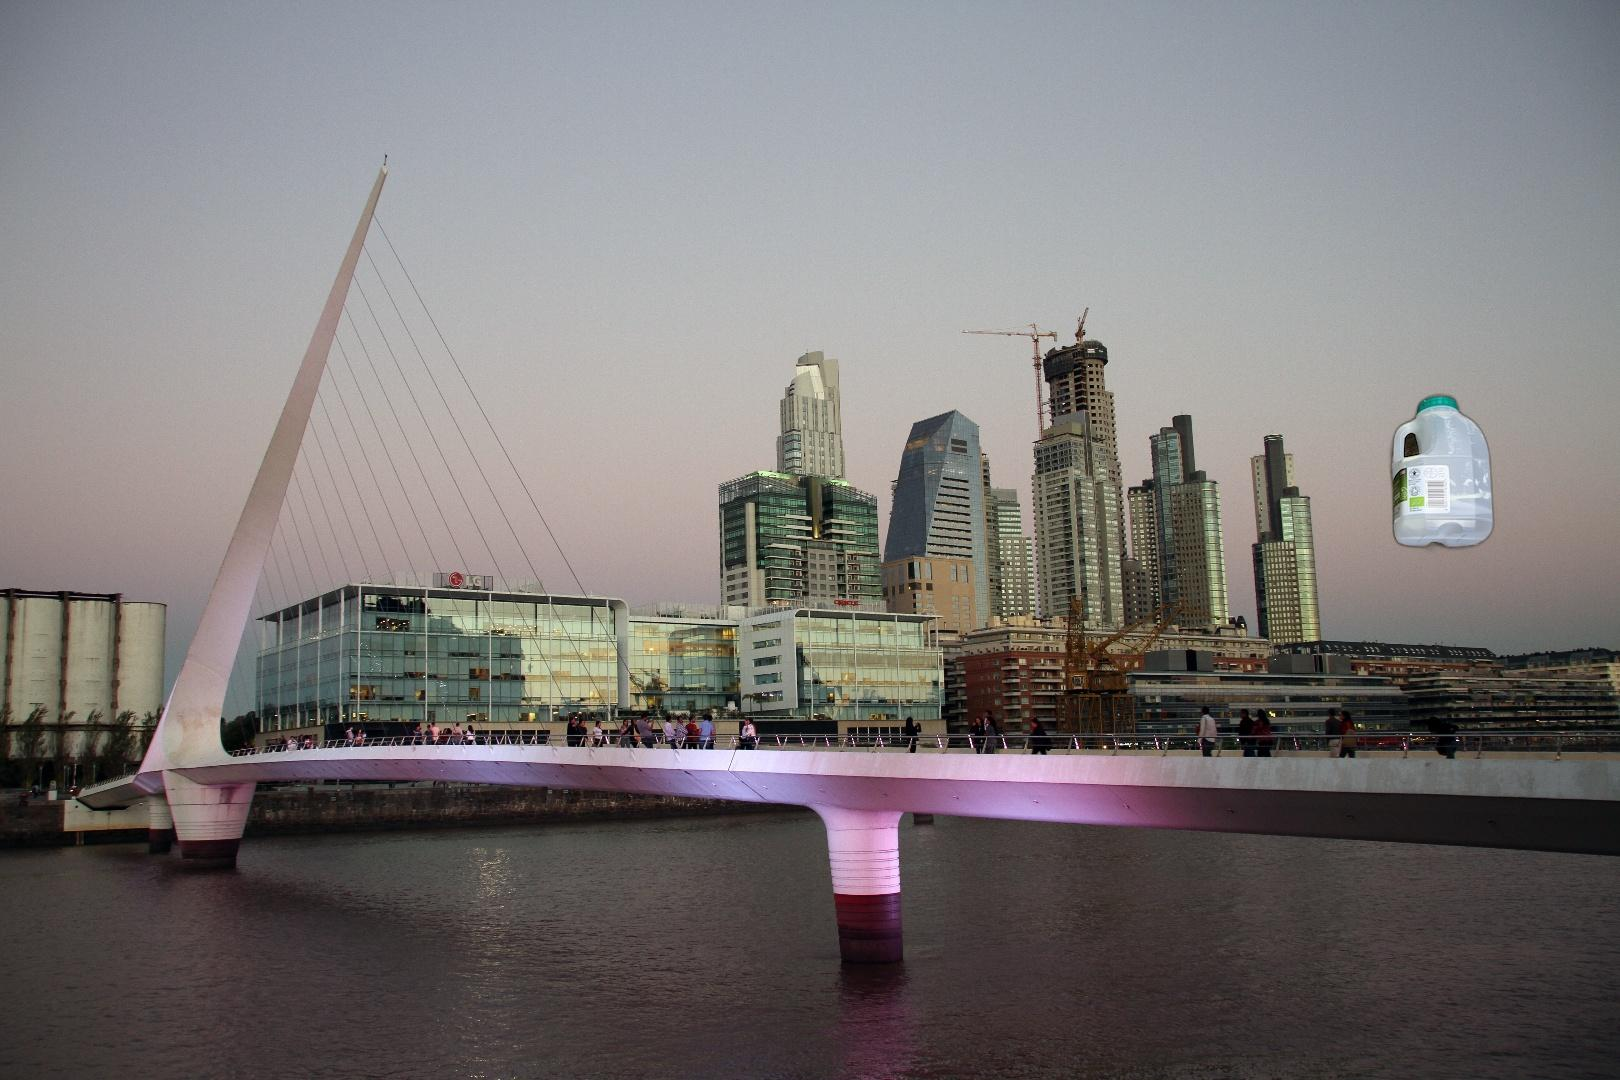plastic-bottles: (1385, 389, 1499, 558)
